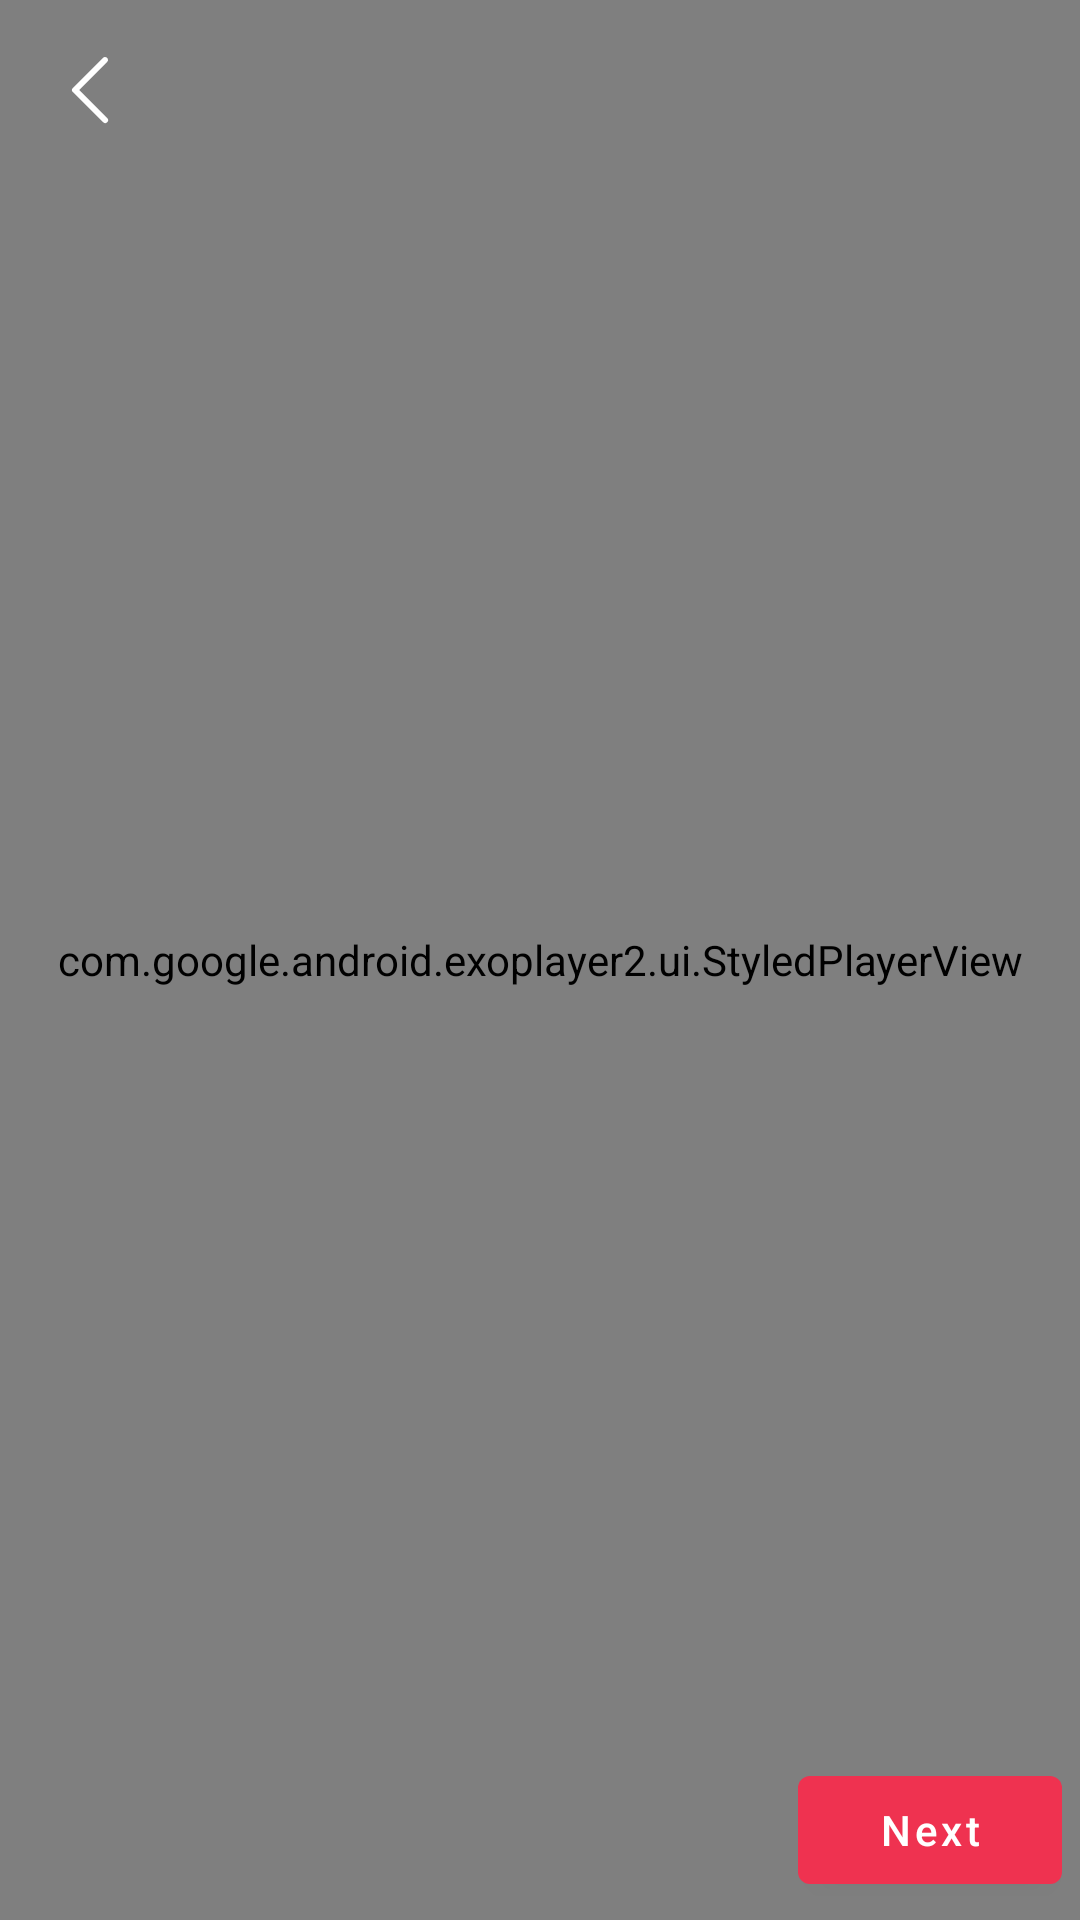

Screen size 1080*1920. Icon name, then its box in pixels as (x1, y1, x2, y2):
back: (72, 57, 108, 123)
